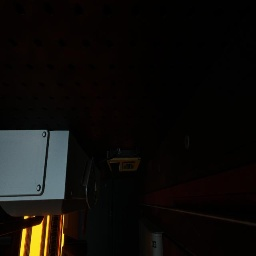EmergencyPhone ,: (99, 148, 141, 181)
SafetySwitchPanel ,: (0, 130, 100, 235)
